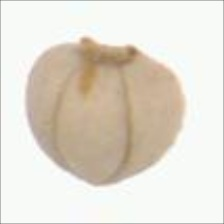L5: (50, 63, 133, 188), (77, 35, 139, 67)
L6: (25, 36, 187, 188)
